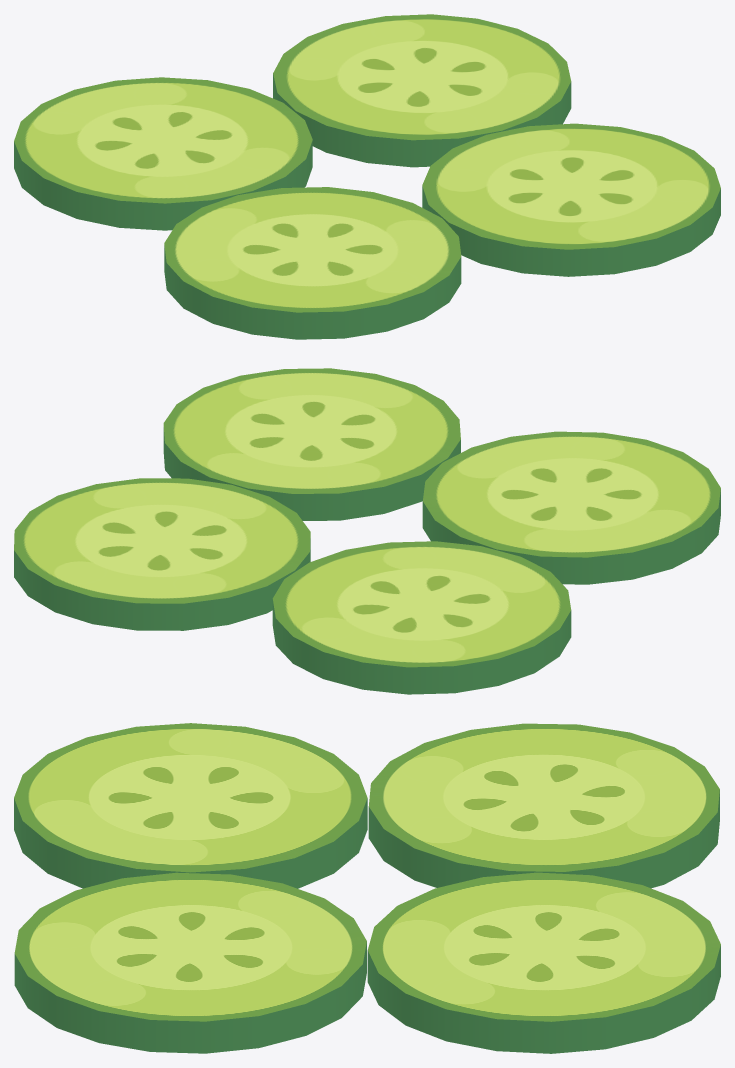
The model's file is Cucumber_Slice_Cucumber_0.glb.
The picture shows the model from 3 angles, top to bottom: view 1: azimuth 30°, elevation 25°; view 2: azimuth 150°, elevation 25°; view 3: azimuth 270°, elevation 25°; orthographic projection. The views are drawn at different scales.
Visible parts, largest first — view 1: Cucumber_Slice_Cucumber_0; view 2: Cucumber_Slice_Cucumber_0; view 3: Cucumber_Slice_Cucumber_0.
Boxes of the visible parts, bbox=[...] form: Cucumber_Slice_Cucumber_0: bbox=[14, 14, 720, 339]; Cucumber_Slice_Cucumber_0: bbox=[14, 368, 720, 694]; Cucumber_Slice_Cucumber_0: bbox=[14, 723, 720, 1053].
Size of the model in its own units: 0.2 by 0.01 by 0.2.
1 material, 1 textured.
